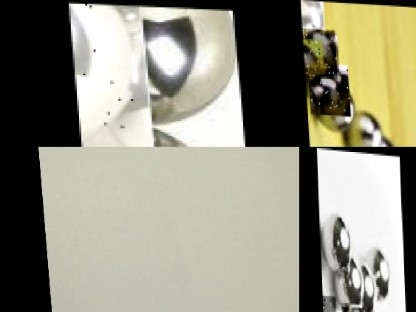ironball: (66, 2, 149, 146), (149, 3, 236, 122), (310, 83, 357, 135), (305, 62, 347, 114), (317, 205, 351, 269), (351, 245, 391, 299), (342, 106, 383, 146), (300, 28, 335, 73), (299, 0, 324, 56), (372, 135, 397, 146), (320, 295, 333, 312), (338, 305, 362, 312)
